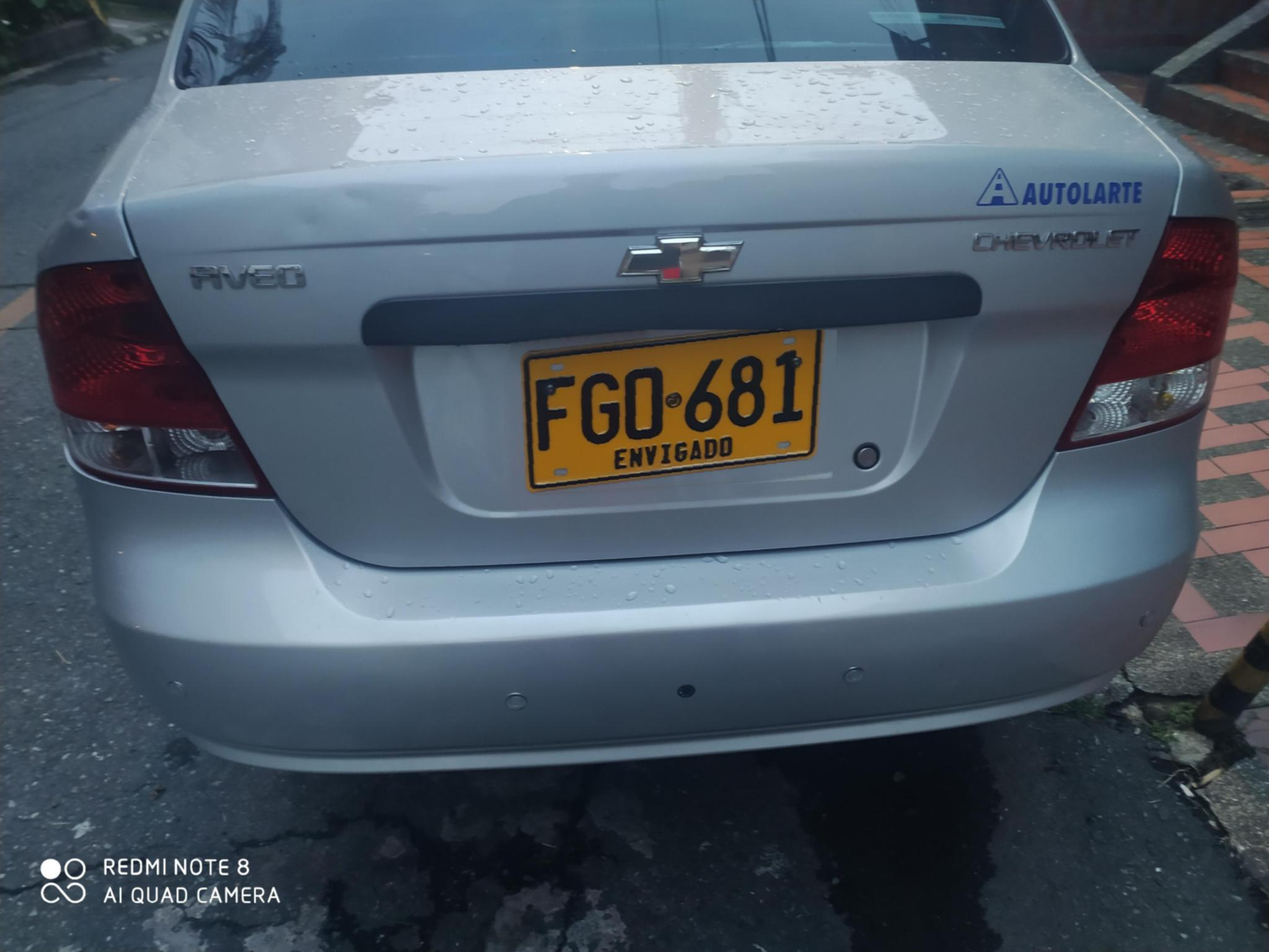placa: (503, 330, 838, 498)
